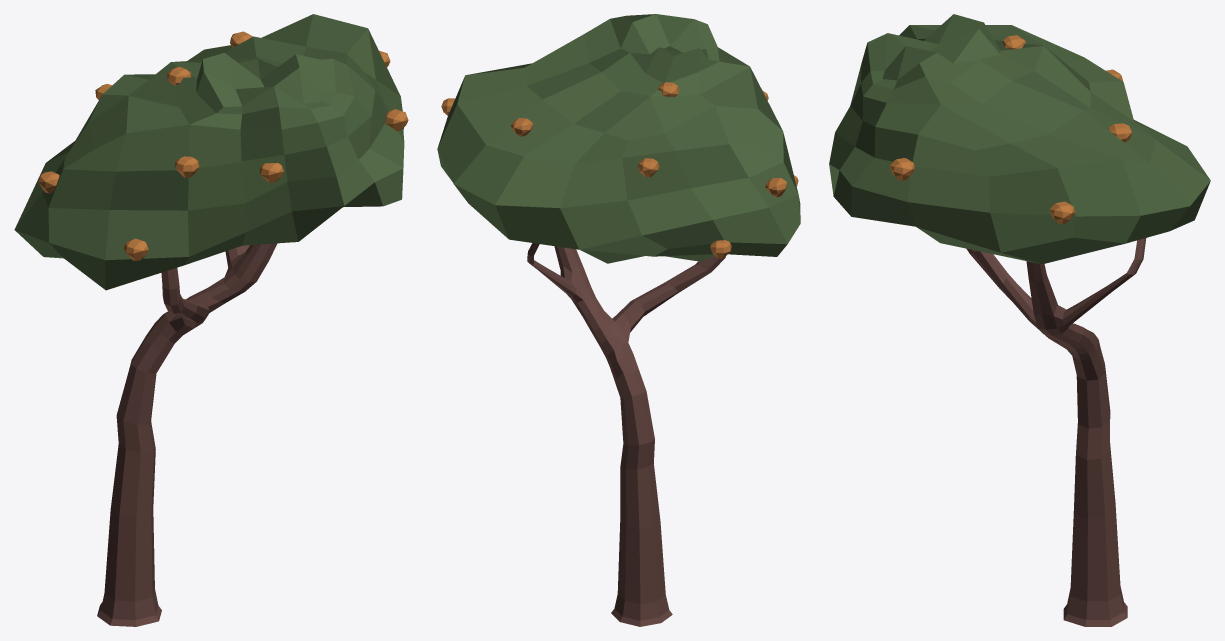
File: Orange_4.gltf
3 views of the same model, side by side, from view 1: azimuth 30°, elevation 25°; view 2: azimuth 150°, elevation 25°; view 3: azimuth 270°, elevation 25° (orthographic). The views are drawn at different scales.
Parts seen in each view (by area): view 1: Orange_4; view 2: Orange_4; view 3: Orange_4.
Part boxes in pixels (x1,y1,x2,y2): Orange_4: [14, 14, 408, 626]; Orange_4: [437, 14, 800, 626]; Orange_4: [829, 14, 1210, 626].
Bounding box in the file's own units: 1.86 × 2.76 × 1.58.
